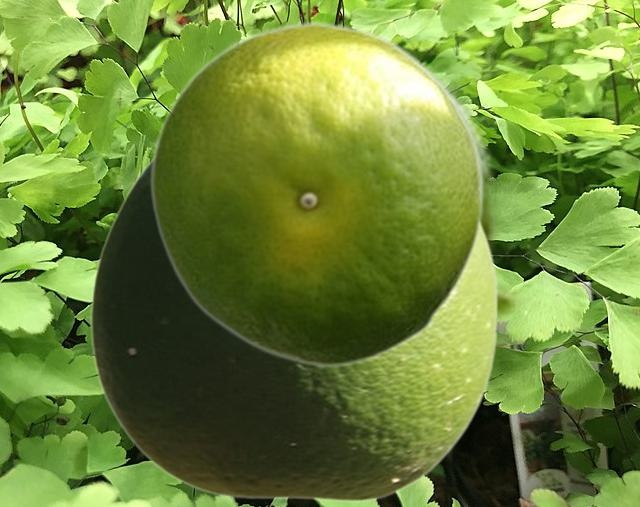dalandan: (89, 158, 498, 501), (149, 20, 483, 367), (143, 58, 523, 326)
